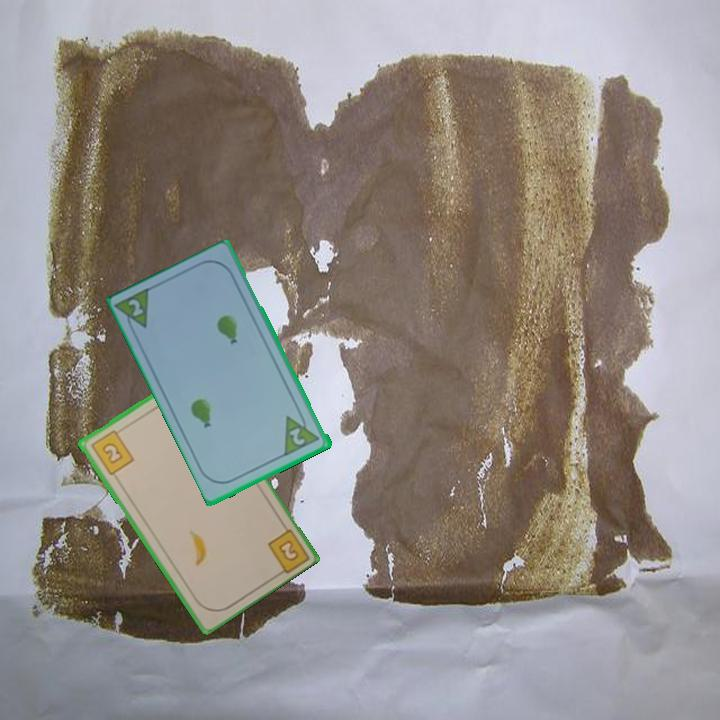2b: (87, 425, 136, 478), (274, 536, 301, 564)
2p: (114, 284, 155, 338), (281, 407, 323, 458)
